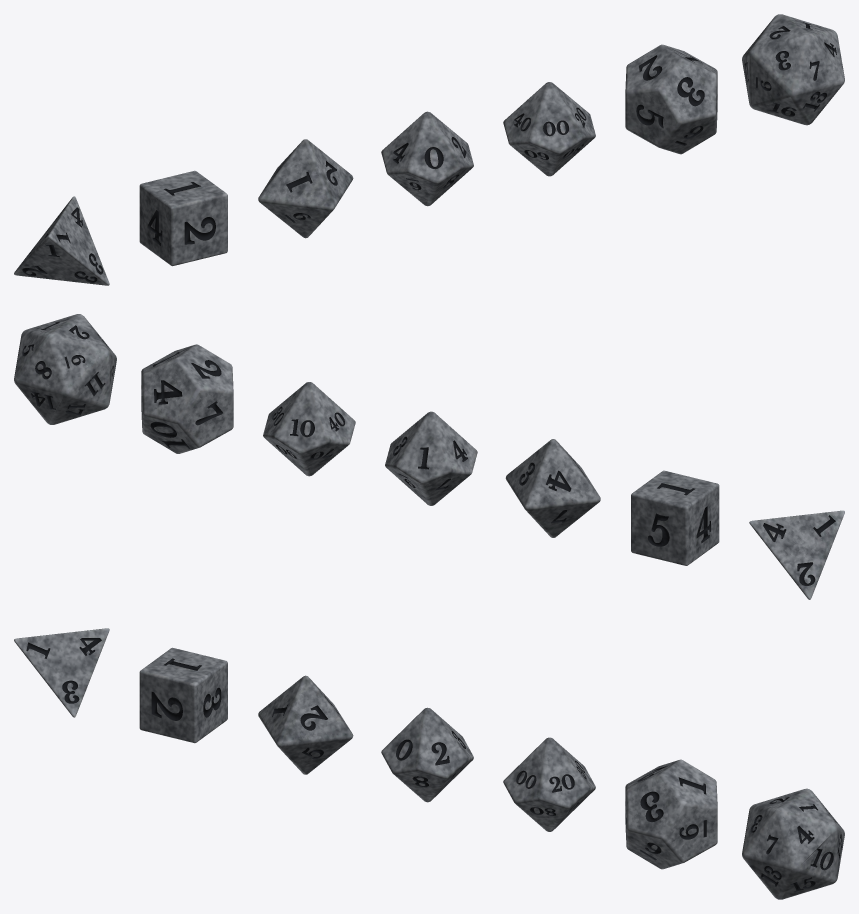
Rendered from pewter.glb.
3 renders of one model, top to bottom at view 1: azimuth 30°, elevation 25°; view 2: azimuth 150°, elevation 25°; view 3: azimuth 330°, elevation 25°, orthographic.
Visible parts, largest first — view 1: d20, d12, d6, d100, d10, d8, d4; view 2: d20, d12, d6, d100, d10, d8, d4; view 3: d20, d12, d6, d8, d100, d10, d4.
Boxes of the visible parts, x1=… form: d20: x1=742, y1=14, x2=844, y2=125; d12: x1=625, y1=44, x2=717, y2=154; d6: x1=139, y1=170, x2=227, y2=266; d100: x1=503, y1=82, x2=595, y2=176; d10: x1=381, y1=111, x2=473, y2=206; d8: x1=258, y1=139, x2=353, y2=238; d4: x1=14, y1=196, x2=109, y2=285; d20: x1=14, y1=314, x2=116, y2=424; d12: x1=141, y1=344, x2=233, y2=453; d6: x1=631, y1=470, x2=719, y2=565; d100: x1=263, y1=382, x2=355, y2=476; d10: x1=385, y1=411, x2=477, y2=505; d8: x1=505, y1=439, x2=600, y2=537; d4: x1=749, y1=510, x2=844, y2=599; d20: x1=742, y1=788, x2=844, y2=899; d12: x1=625, y1=759, x2=717, y2=869; d6: x1=139, y1=647, x2=227, y2=743; d8: x1=258, y1=675, x2=353, y2=774; d100: x1=503, y1=737, x2=595, y2=831; d10: x1=381, y1=707, x2=473, y2=802; d4: x1=14, y1=628, x2=109, y2=717.
Size of the model in its own units: 21.14 by 2.47 by 2.47.
14 materials, 7 textured.
